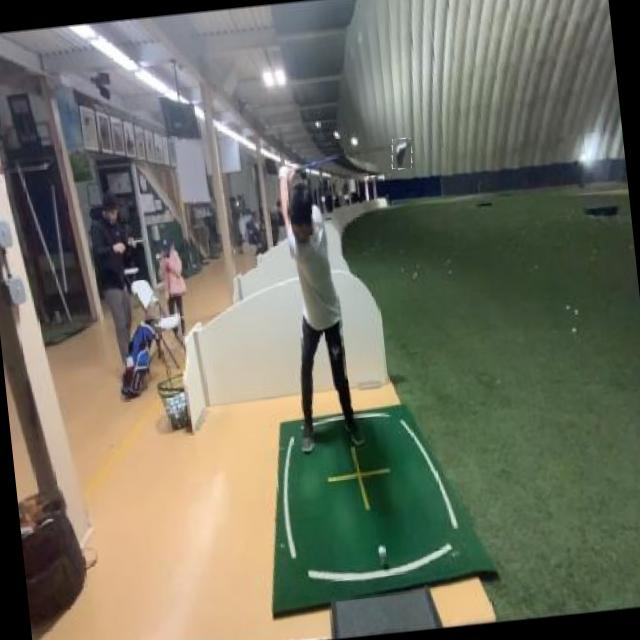club head: (389, 138, 414, 170)
